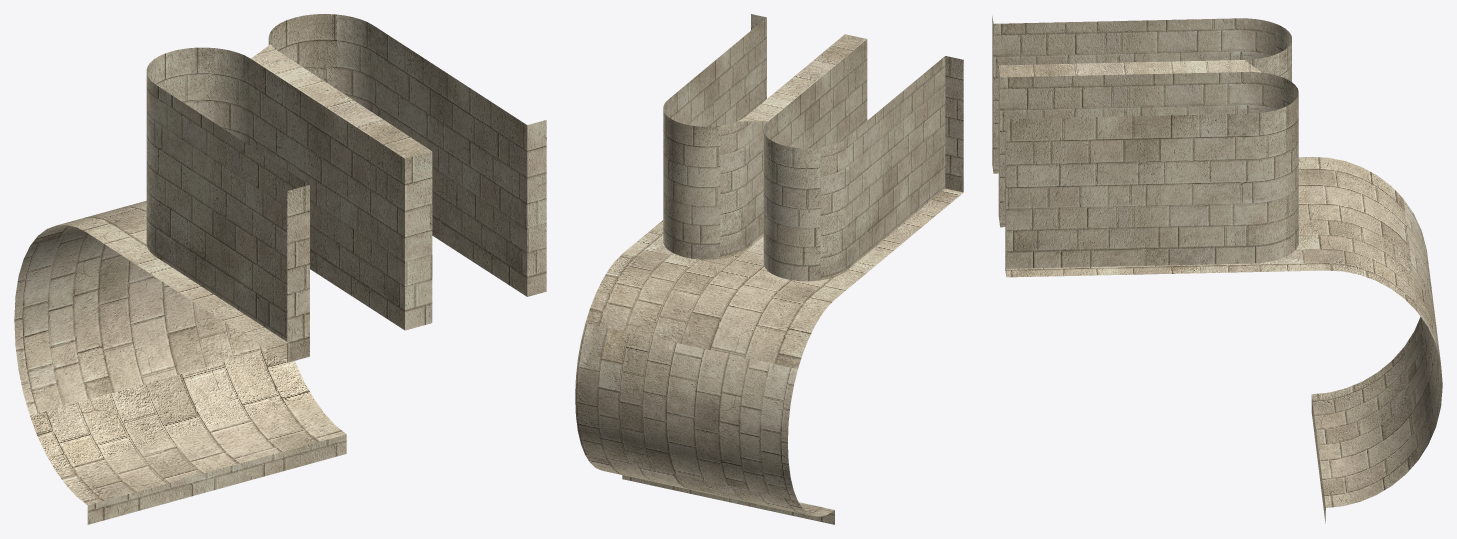
File: walls_118.fbx
3 renders of one model, left to right at view 1: azimuth 30°, elevation 25°; view 2: azimuth 150°, elevation 25°; view 3: azimuth 270°, elevation 25°, orthographic. The views are drawn at different scales.
Parts seen in each view (by area): view 1: walls_118; view 2: walls_118; view 3: walls_118.
Part boxes in pixels (x1=…): walls_118: x1=14, y1=14, x2=546, y2=524; walls_118: x1=575, y1=14, x2=963, y2=524; walls_118: x1=992, y1=16, x2=1442, y2=523.
Bounding box in the file's own units: 313 × 479 × 484.
